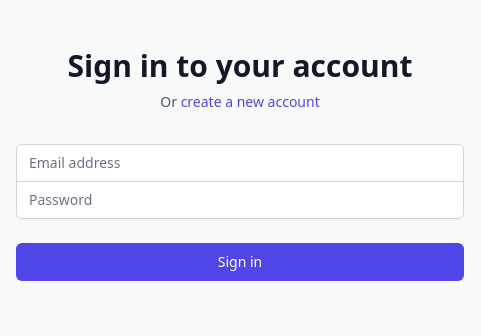
Test: Login Component › displays error message on login failure
Type "test@example.com" into the field with test id "email-input" at (240, 162), box x1=16 y1=144 x2=464 y2=182
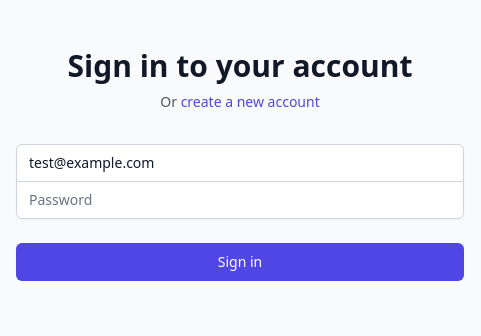
Type "wrongpassword" into the password field with test id "password-input" at (240, 200), box x1=16 y1=180 x2=464 y2=218
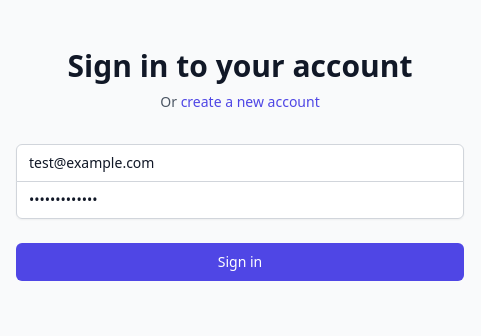
Click the button with test id "login-button" at (240, 262), box x1=16 y1=242 x2=464 y2=280
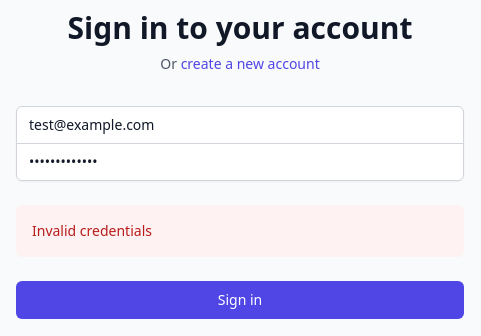
Expected: the text "Invalid credentials" is shown, x1=32 y1=220 x2=152 y2=240
